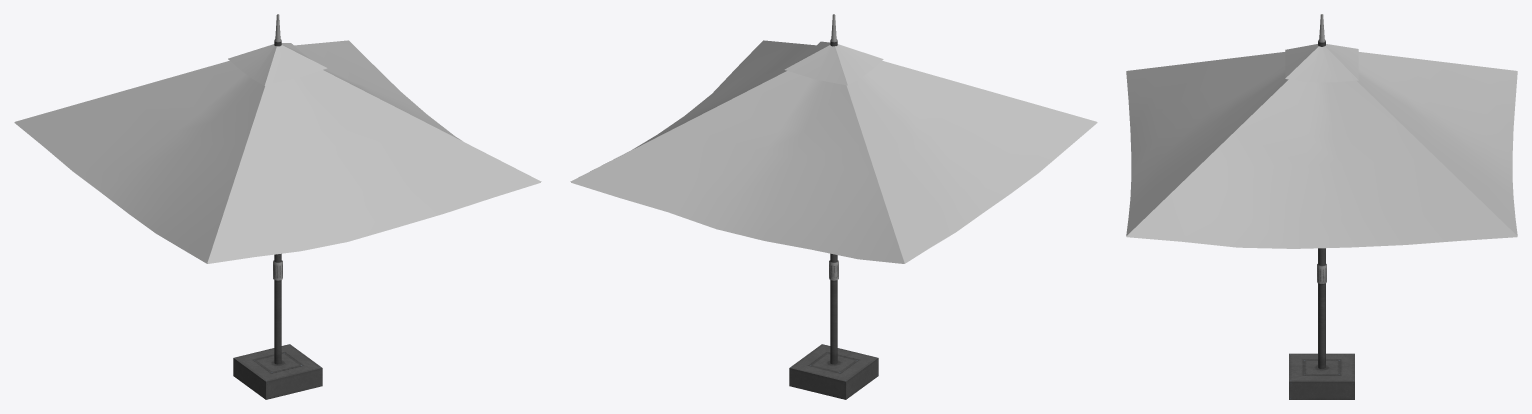
The model's file is MB_Parasol_Pack_02.fbx.
3 views of the same model, side by side, from view 1: azimuth 30°, elevation 25°; view 2: azimuth 150°, elevation 25°; view 3: azimuth 270°, elevation 25° (orthographic).
Visible parts, largest first — view 1: MB_Parasol_Pack_02_LOD0; view 2: MB_Parasol_Pack_02_LOD0; view 3: MB_Parasol_Pack_02_LOD0.
Boxes of the visible parts, x1,y1,x2,y2 form: MB_Parasol_Pack_02_LOD0: (14, 14, 541, 399); MB_Parasol_Pack_02_LOD0: (570, 14, 1097, 399); MB_Parasol_Pack_02_LOD0: (1126, 14, 1517, 399).
Size of what is drawn, in the model's own units: 425 by 445 by 425.
